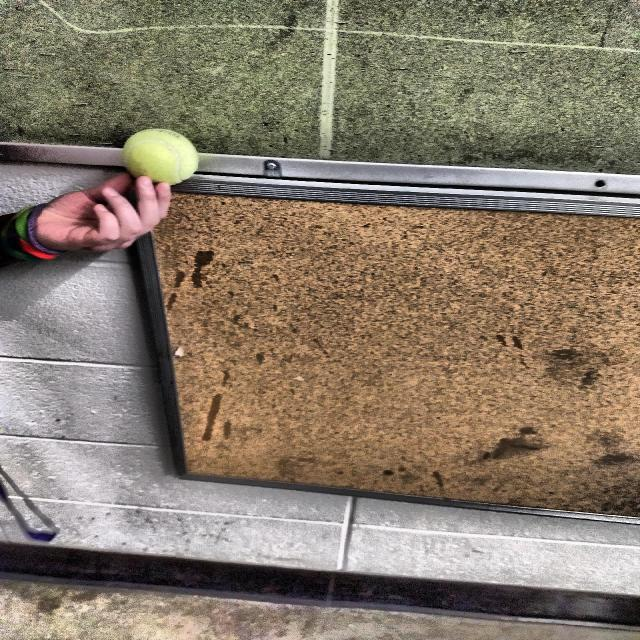tennis-ball: (116, 127, 208, 192)
